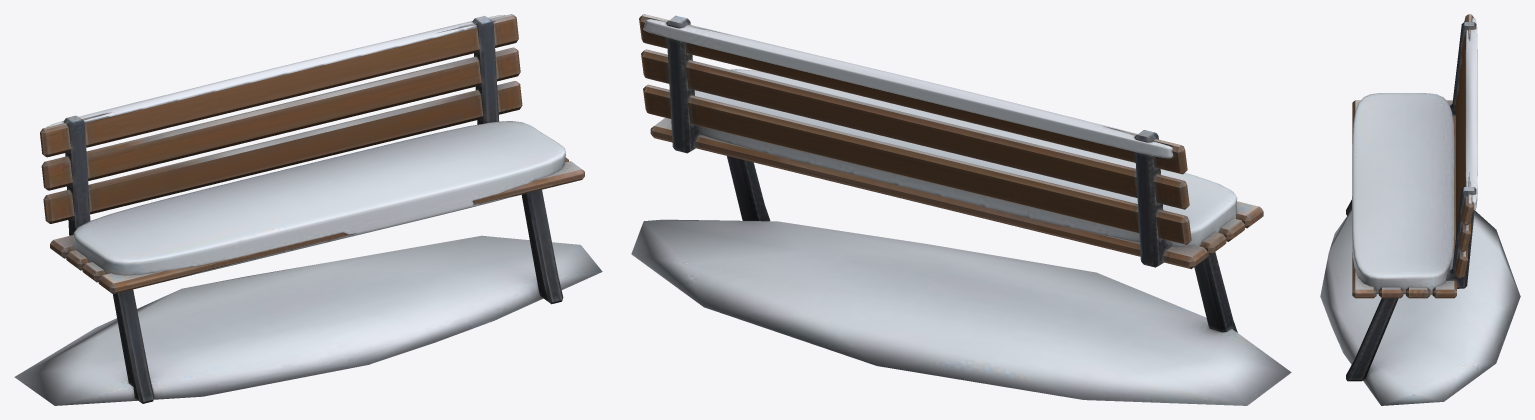
Rendered from bench_snow.glb.
The picture shows the model from 3 angles, left to right: view 1: azimuth 30°, elevation 25°; view 2: azimuth 150°, elevation 25°; view 3: azimuth 270°, elevation 25°; orthographic projection. The views are drawn at different scales.
Parts seen in each view (by area): view 1: bench_snow; view 2: bench_snow; view 3: bench_snow.
Boxes of the visible parts, bbox=[...] form: bench_snow: bbox=[14, 14, 602, 405]; bench_snow: bbox=[631, 14, 1291, 405]; bench_snow: bbox=[1320, 14, 1520, 405].
Bounding box in the file's own units: 2.15 × 0.8647 × 0.8213.
1 material, 1 textured.
